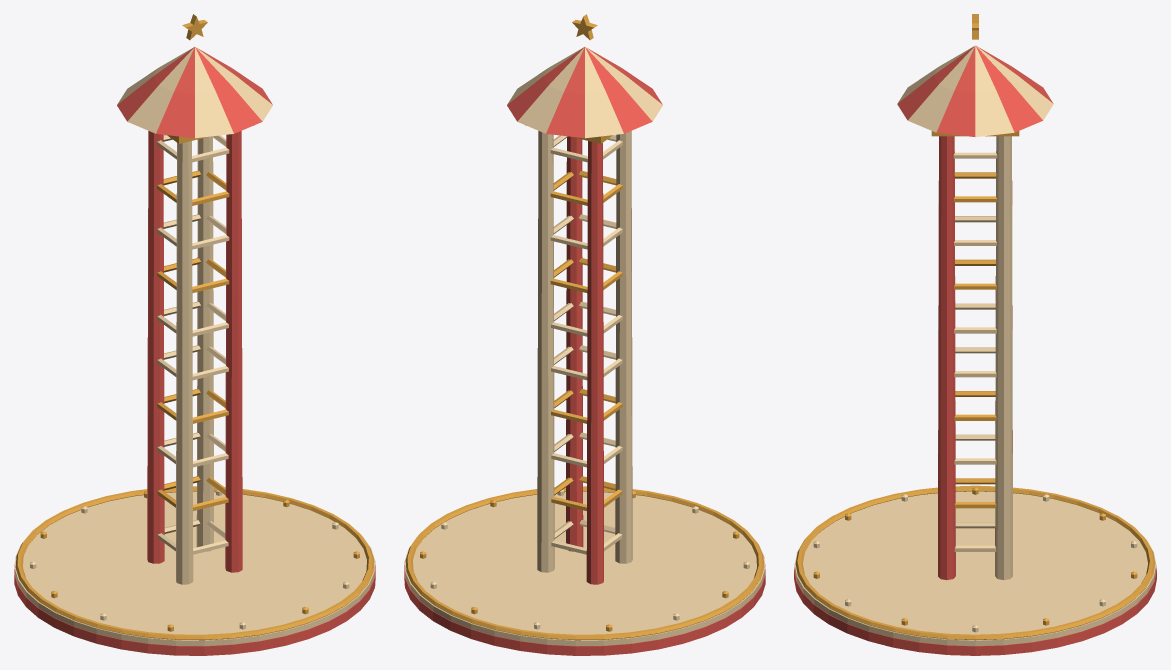
The model's file is ParkParkDropTower.obj.
The picture shows the model from 3 angles, left to right: view 1: azimuth 30°, elevation 25°; view 2: azimuth 150°, elevation 25°; view 3: azimuth 270°, elevation 25°; orthographic projection.
Visible parts, largest first — view 1: ParkParkDropTower; view 2: ParkParkDropTower; view 3: ParkParkDropTower.
Part boxes in pixels (x1=…): ParkParkDropTower: x1=14, y1=14, x2=375, y2=655; ParkParkDropTower: x1=404, y1=14, x2=765, y2=655; ParkParkDropTower: x1=794, y1=14, x2=1156, y2=655.
Bounding box in the file's own units: 12.04 × 20.7 × 12.04.
